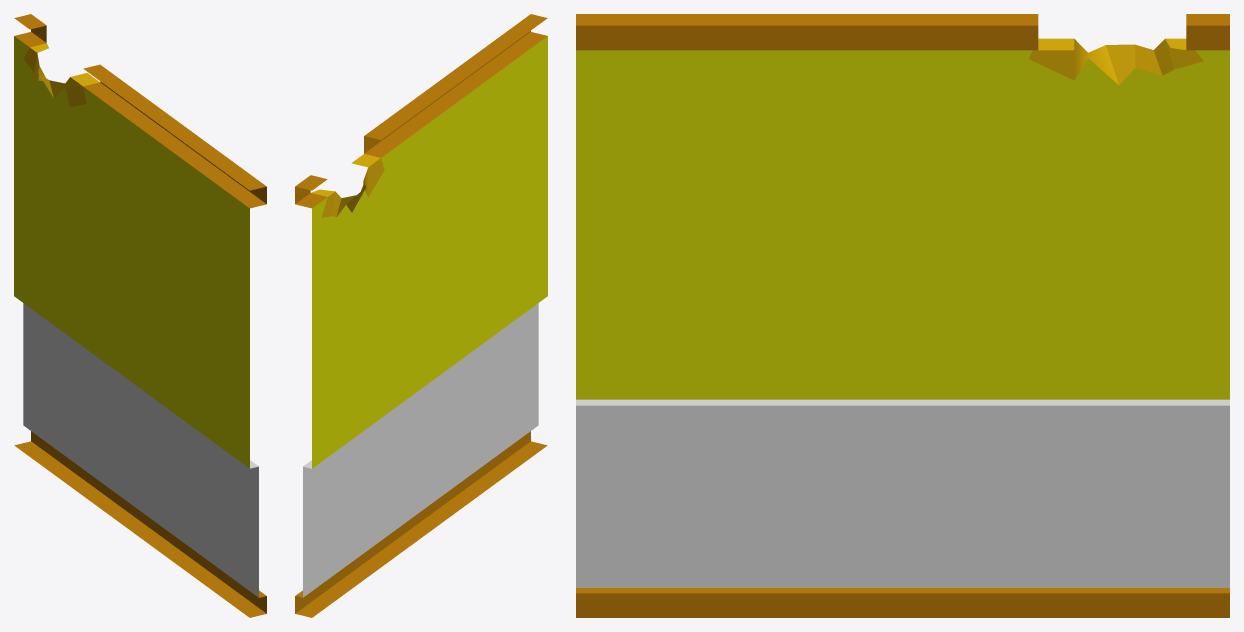
File: Mesh_Wall_Broken_a01.fbx
The picture shows the model from 3 angles, left to right: view 1: azimuth 30°, elevation 25°; view 2: azimuth 150°, elevation 25°; view 3: azimuth 270°, elevation 25°; orthographic projection. The views are drawn at different scales.
Visible parts, largest first — view 1: Mesh_Wall_Broken_a01; view 2: Mesh_Wall_Broken_a01; view 3: Mesh_Wall_Broken_a01.
Boxes of the visible parts, x1,y1,x2,y2 form: Mesh_Wall_Broken_a01: [14, 14, 266, 617]; Mesh_Wall_Broken_a01: [295, 14, 547, 617]; Mesh_Wall_Broken_a01: [576, 14, 1229, 617].
Bounding box in the file's own units: 1.6 × 24 × 24.
